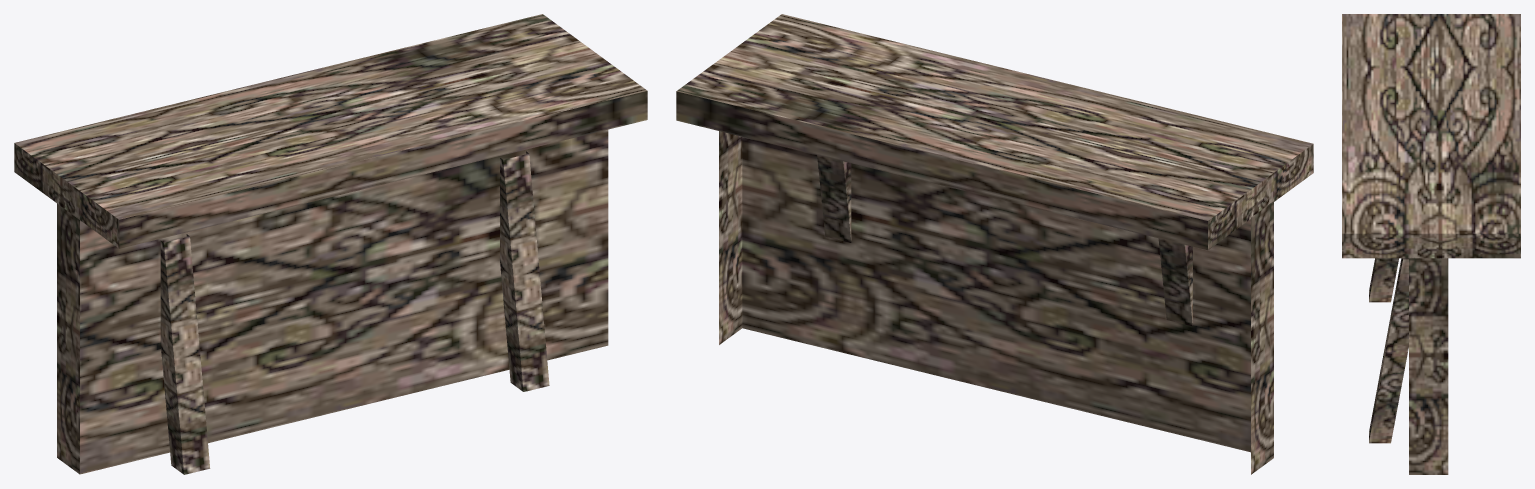
3 renders of one model, left to right at view 1: azimuth 30°, elevation 25°; view 2: azimuth 150°, elevation 25°; view 3: azimuth 270°, elevation 25°, orthographic. The views are drawn at different scales.
Parts seen in each view (by area): view 1: Furniture05; view 2: Furniture05; view 3: Furniture05.
Part boxes in pixels (x1=…): Furniture05: x1=14, y1=14, x2=647, y2=474; Furniture05: x1=676, y1=14, x2=1313, y2=474; Furniture05: x1=1342, y1=14, x2=1520, y2=474.
Bounding box in the file's own units: 203 × 105 × 69.99.
